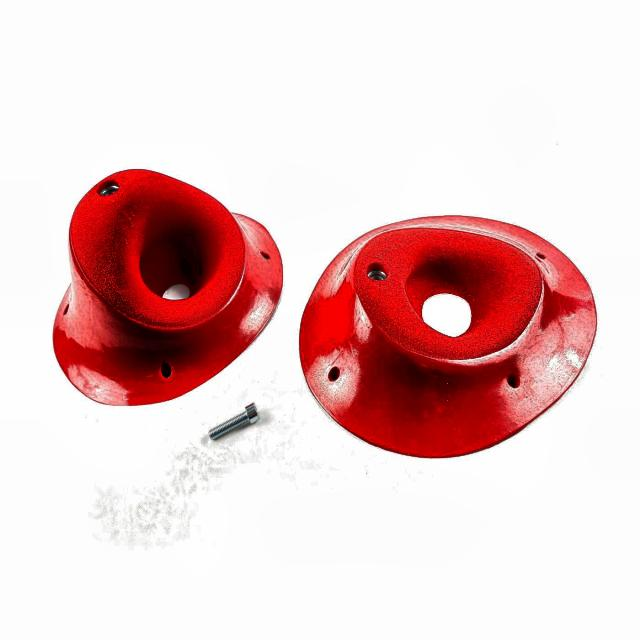Hold: (294, 216, 597, 459), (53, 168, 282, 404)
